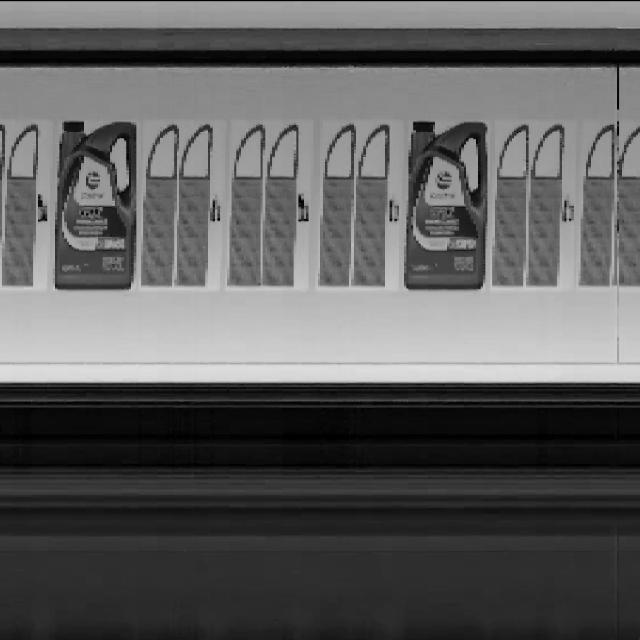air_filter: (527, 116, 569, 290), (262, 115, 300, 292), (352, 122, 392, 290), (576, 127, 616, 293), (176, 122, 216, 288), (1, 121, 40, 287), (491, 120, 528, 284), (139, 123, 175, 287), (227, 118, 261, 288), (318, 121, 352, 289)
motor_oil: (402, 117, 488, 293), (51, 122, 138, 293)
